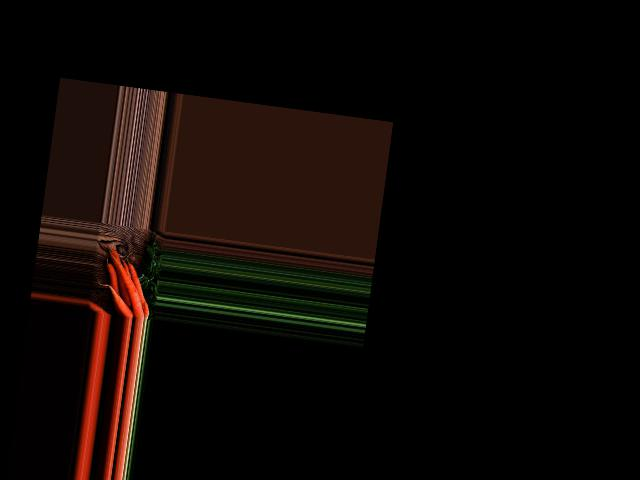carrot: (105, 286, 135, 316)
